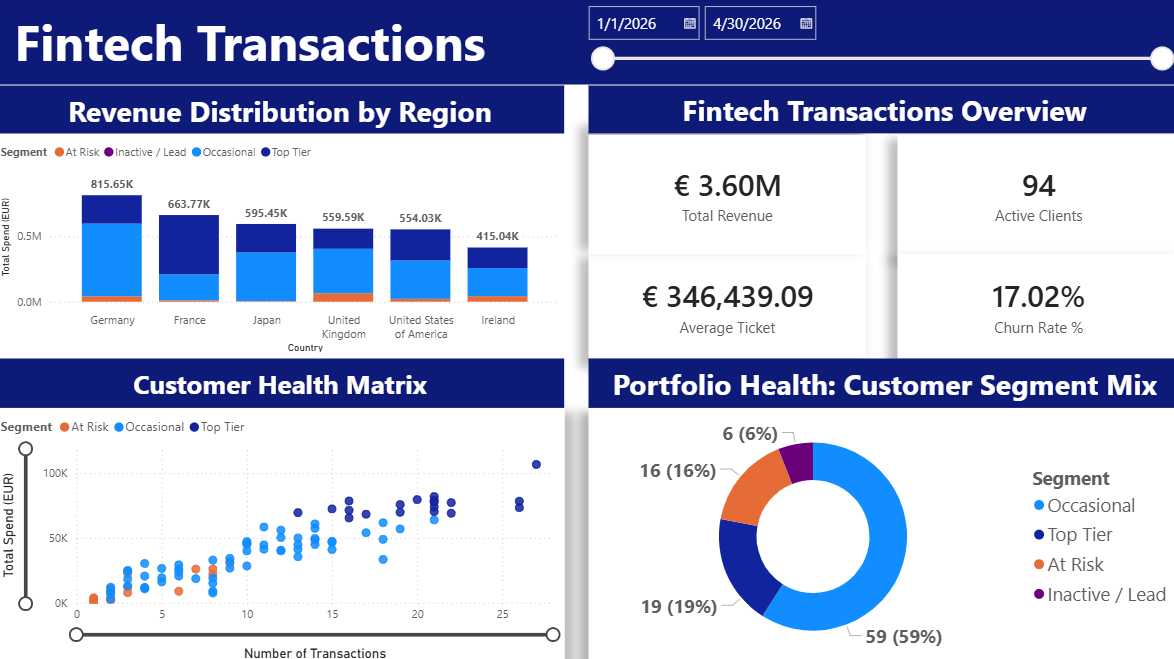

Layout of this report page (visuals, bound fields, positions):
{"tool":"powerbi","page":{"name":"Page 1","canvas":[1280,720],"ordinal":0},"visuals":[{"type":"cardVisual","fields":{"Data":["CountNonNull(customer_segments.segment)"]},"box":[973.3,148.3,305,128.3],"z":0},{"type":"cardVisual","fields":{"Data":["Sum(customer_segments.avg_ticket_eur)"]},"box":[640,276.7,300,113.3],"z":1000},{"type":"donutChart","fields":{"Category":["customer_segments.segment"],"Y":["CountNonNull(customer_segments.Customer_id)"]},"box":[639.6,443.7,638,276.9],"z":2000},{"type":"cardVisual","fields":{"Data":["customer_segments.Churn Rate %"]},"box":[973.3,276.7,305,113.3],"z":3000},{"type":"scatterChart","fields":{"X":["CountNonNull(Cleaned_transactions.Tx_id)"],"Y":["customer_segments.total_spent_eur"],"Series":["customer_segments.segment"]},"box":[0,443.7,613.7,276.9],"z":5000},{"type":"shape","box":[0,0,1279.4,94.5],"z":6000},{"type":"slicer","fields":{"Values":["Cleaned_transactions.Transaction_date"]},"box":[626.7,0,653.3,93.3],"z":7000},{"type":"shape","box":[0,390,613.3,53.3],"z":8000},{"type":"cardVisual","fields":{"Data":["Sum(customer_segments.total_spent_eur)"]},"box":[640,148.3,300,128.3],"z":9000},{"type":"shape","box":[640,390,640,53.3],"z":10000},{"type":"shape","box":[640,95,640,51.7],"z":11000},{"type":"shape","box":[0,95,613.3,53.3],"z":12000},{"type":"columnChart","fields":{"Y":["Sum(customer_segments.total_spent_eur)"],"Category":["Customers.Country"],"Series":["customer_segments.segment"]},"box":[0,147.3,613.7,241.3],"z":12001}]}

Visuals, with their boxes in screenshot pixels (x1, y1, x2, y2), scaled from the page's 1280x720 canvas onto the 1174x659 screenshot:
cardVisual - CountNonNull(customer_segments.segment): 893,136,1172,253
cardVisual - Sum(customer_segments.avg_ticket_eur): 587,253,862,357
donutChart - customer_segments.segment x CountNonNull(customer_segments.Customer_id): 587,406,1172,658
cardVisual - customer_segments.Churn Rate %: 893,253,1172,357
scatterChart - CountNonNull(Cleaned_transactions.Tx_id) x customer_segments.total_spent_eur: 0,406,563,658
shape: 0,0,1173,86
slicer - Cleaned_transactions.Transaction_date: 575,0,1173,85
shape: 0,357,563,406
cardVisual - Sum(customer_segments.total_spent_eur): 587,136,862,253
shape: 587,357,1173,406
shape: 587,87,1173,134
shape: 0,87,563,136
columnChart - Sum(customer_segments.total_spent_eur) x Customers.Country: 0,135,563,356
